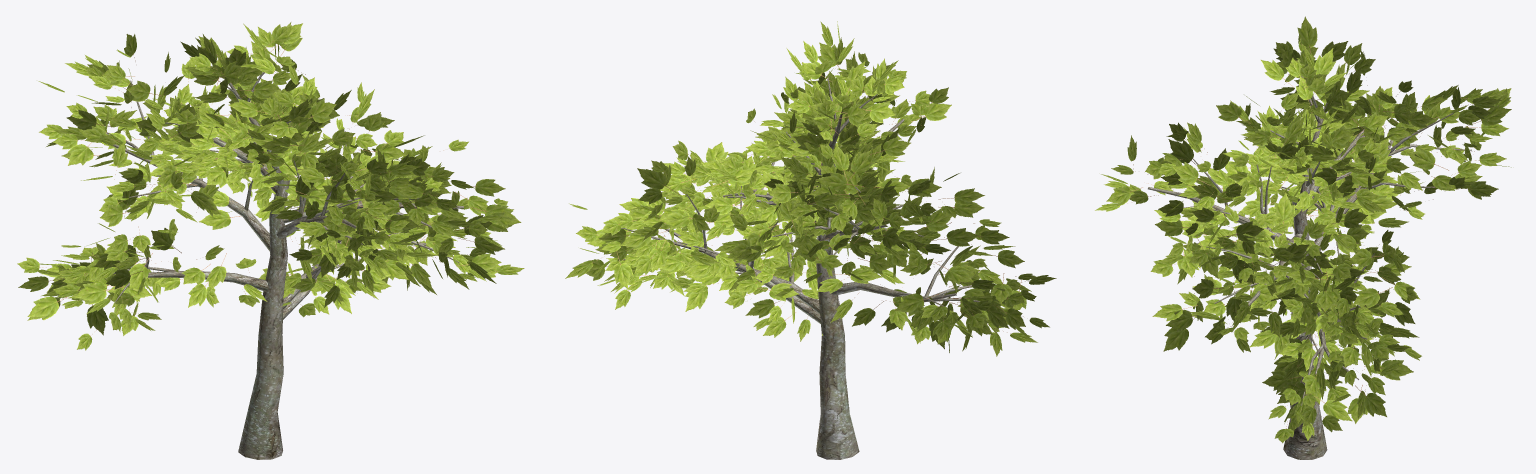
The model's file is tree_maple_green2.glb.
3 views of the same model, side by side, from view 1: azimuth 30°, elevation 25°; view 2: azimuth 150°, elevation 25°; view 3: azimuth 270°, elevation 25° (orthographic). The views are drawn at different scales.
Visible parts, largest first — view 1: tree; view 2: tree; view 3: tree.
Boxes of the visible parts, x1=… form: tree: x1=17, y1=22, x2=524, y2=459; tree: x1=565, y1=21, x2=1056, y2=459; tree: x1=1095, y1=16, x2=1511, y2=459.
Bounding box in the file's own units: 7.48 × 6.54 × 6.03.
Materials: 2 (2 with a texture image).
